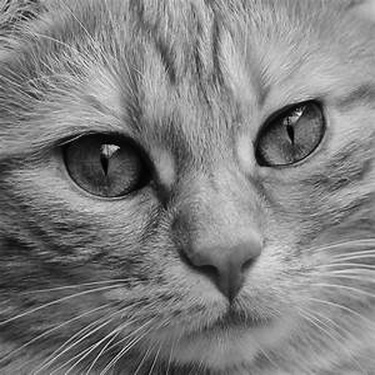cat: (2, 5, 370, 370)
